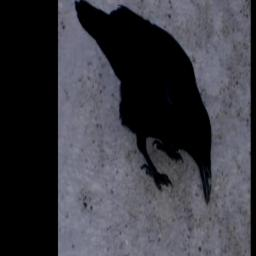Crow: (72, 0, 211, 204)
